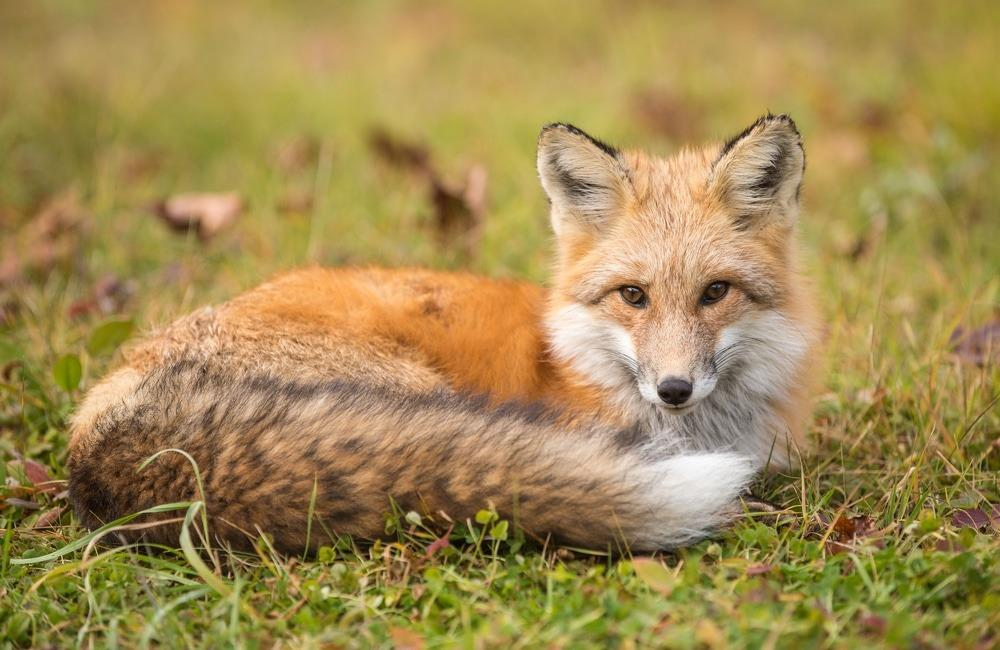fox: (15, 65, 898, 603)
